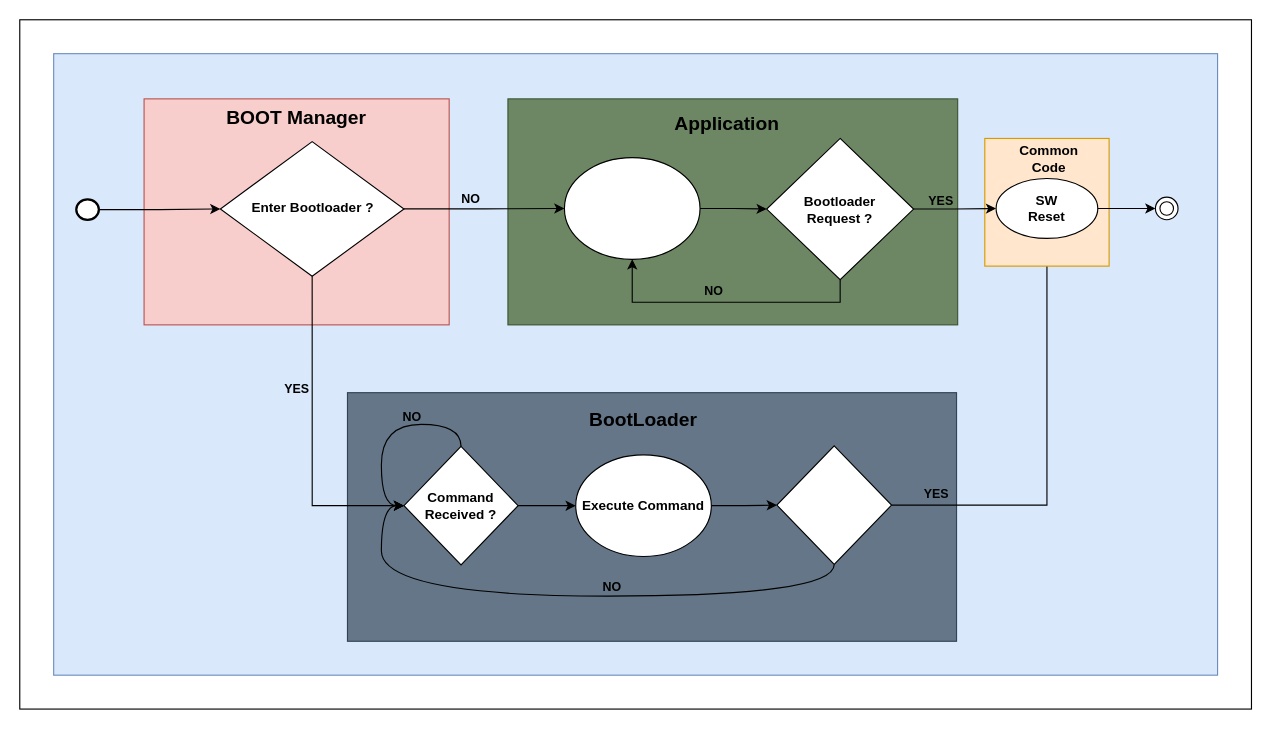
Some shapes in this 1271 by 729 pixel diagram are drawn without their labels. Here are the shapes that lost their labels. From the top down, the centre of each, then its label:
At point (631, 208): "Run Application".
At point (834, 504): "Exit to Application ?".
